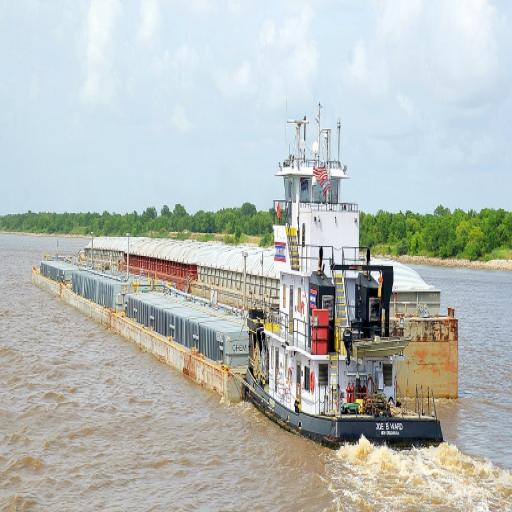tugboat: (242, 99, 447, 464)
